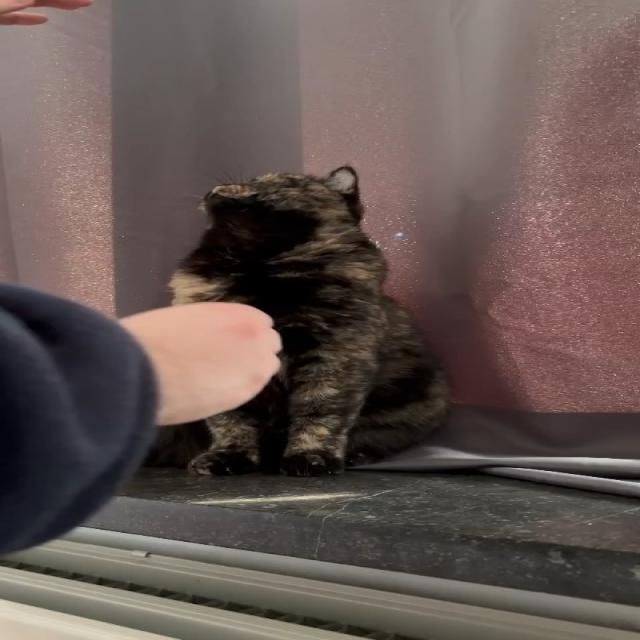authorized: (160, 165, 452, 477)
